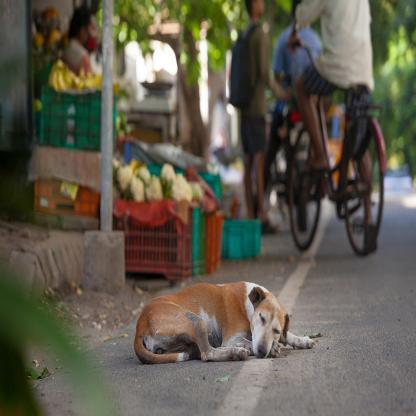dog: (118, 274, 320, 364)
